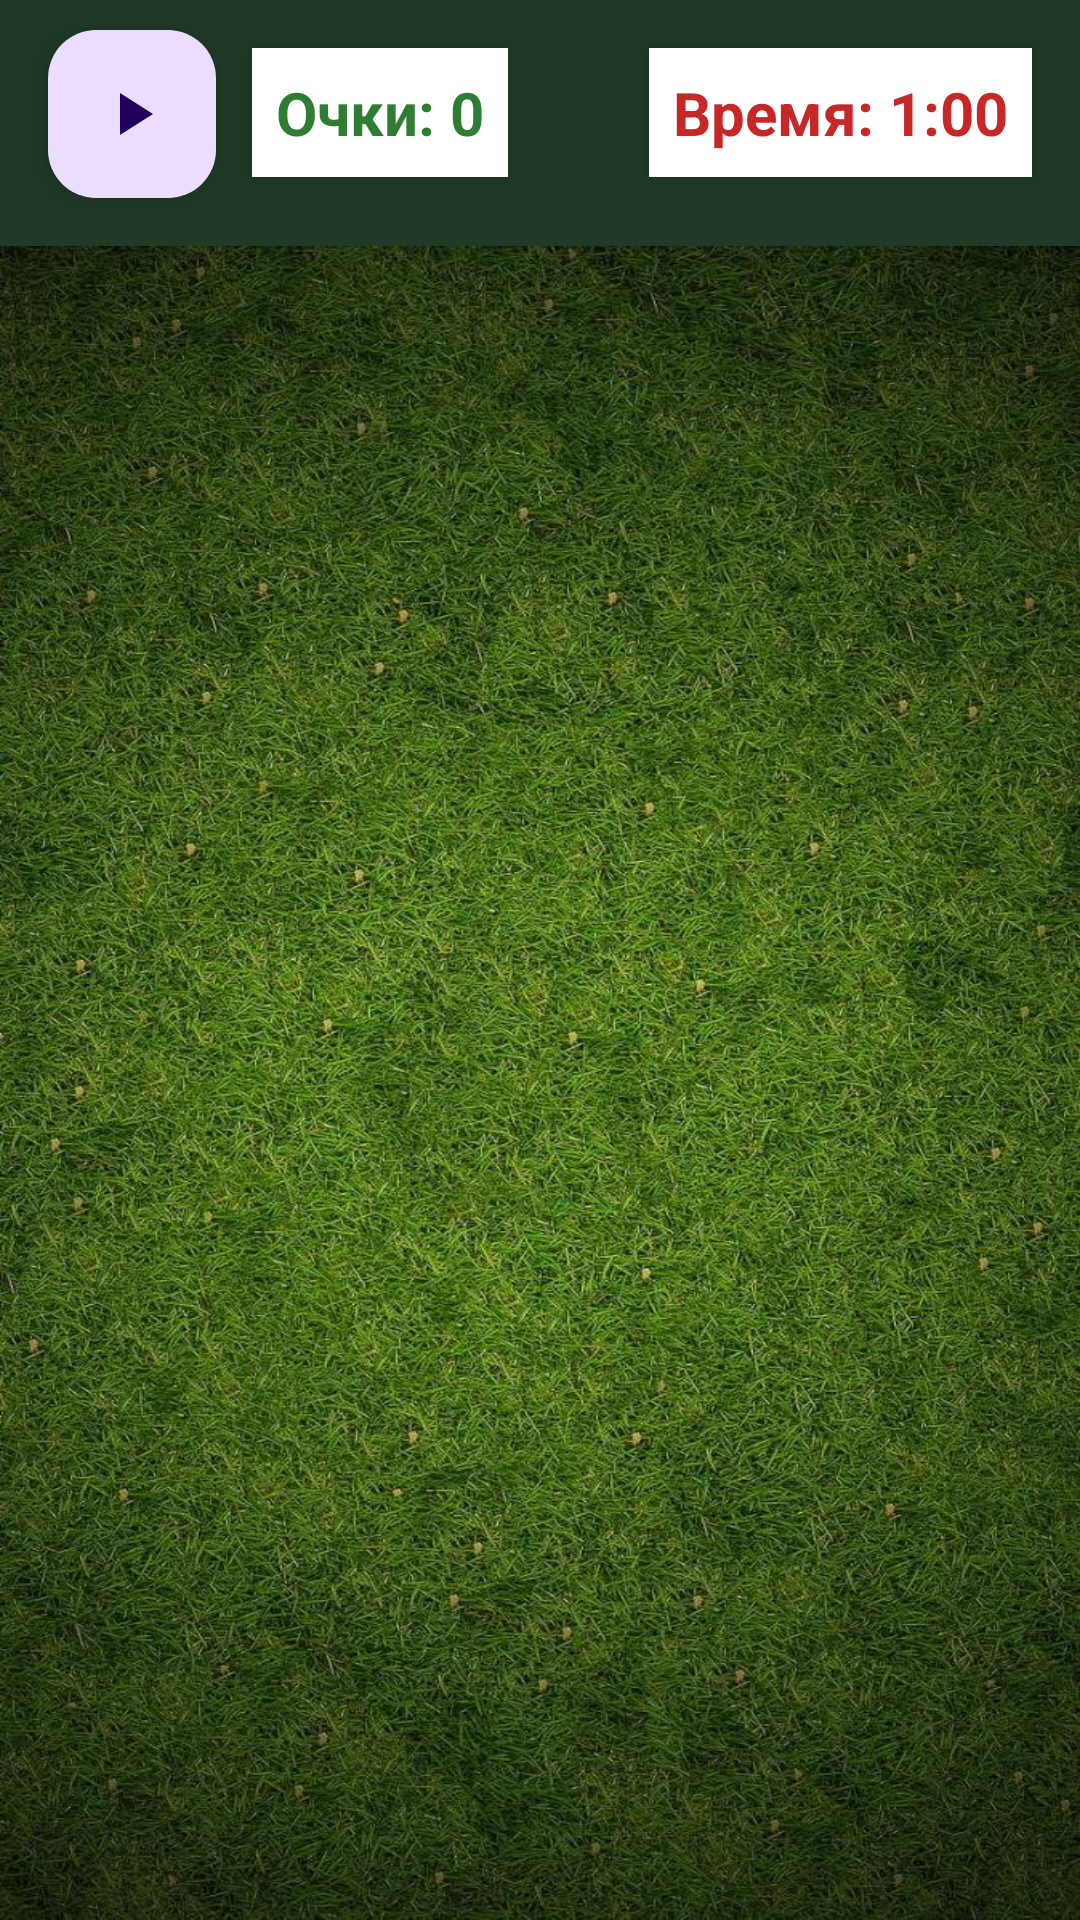

Named icons in this screenshot (1080px×1920px) and their centers, (x,y):
play: (132,114)
